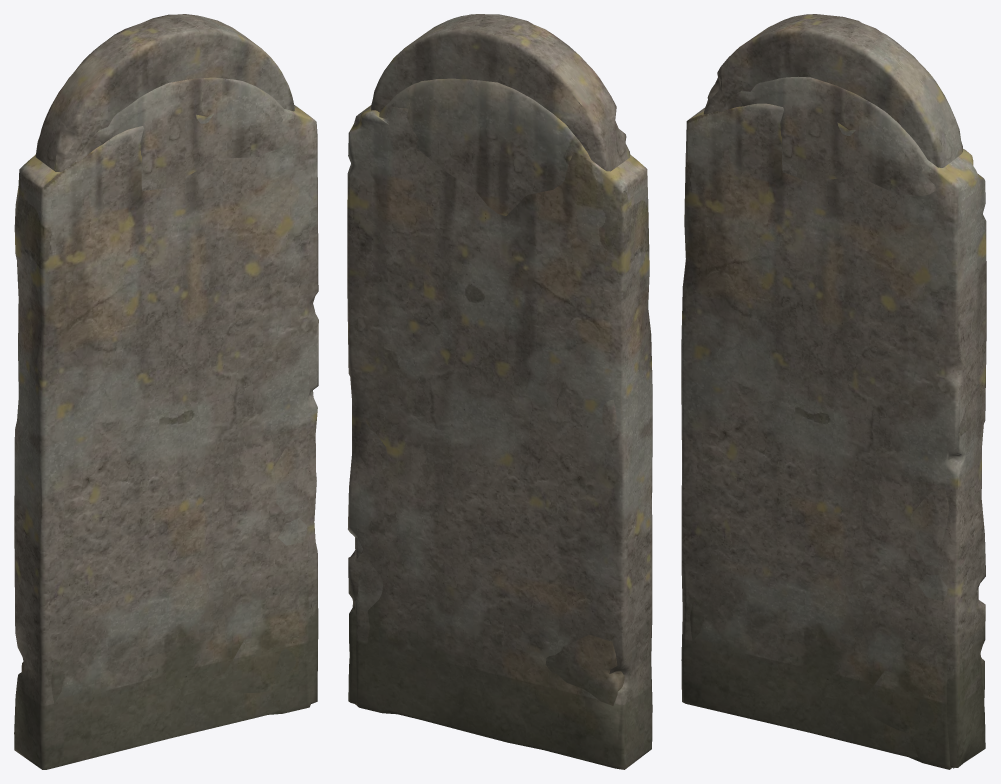
Rendered from tallRound.glb.
The picture shows the model from 3 angles, left to right: view 1: azimuth 30°, elevation 25°; view 2: azimuth 150°, elevation 25°; view 3: azimuth 330°, elevation 25°; orthographic projection.
Visible parts, largest first — view 1: tallRound_b, tallRound_a, tallRound_c; view 2: tallRound_b, tallRound_a, tallRound_c; view 3: tallRound_b, tallRound_a, tallRound_c.
Boxes of the visible parts, x1,y1,x2,y2 form: tallRound_b: (14,105,318,769); tallRound_a: (21,77,310,714); tallRound_c: (35,14,294,171); tallRound_b: (347,105,652,769); tallRound_a: (355,78,624,714); tallRound_c: (371,14,630,171); tallRound_b: (681,103,986,767); tallRound_a: (690,76,978,769); tallRound_c: (703,14,962,167).
Size of the model in its own units: 0.6655 by 1.61 by 0.1334.
Materials: 2 (2 with a texture image).
